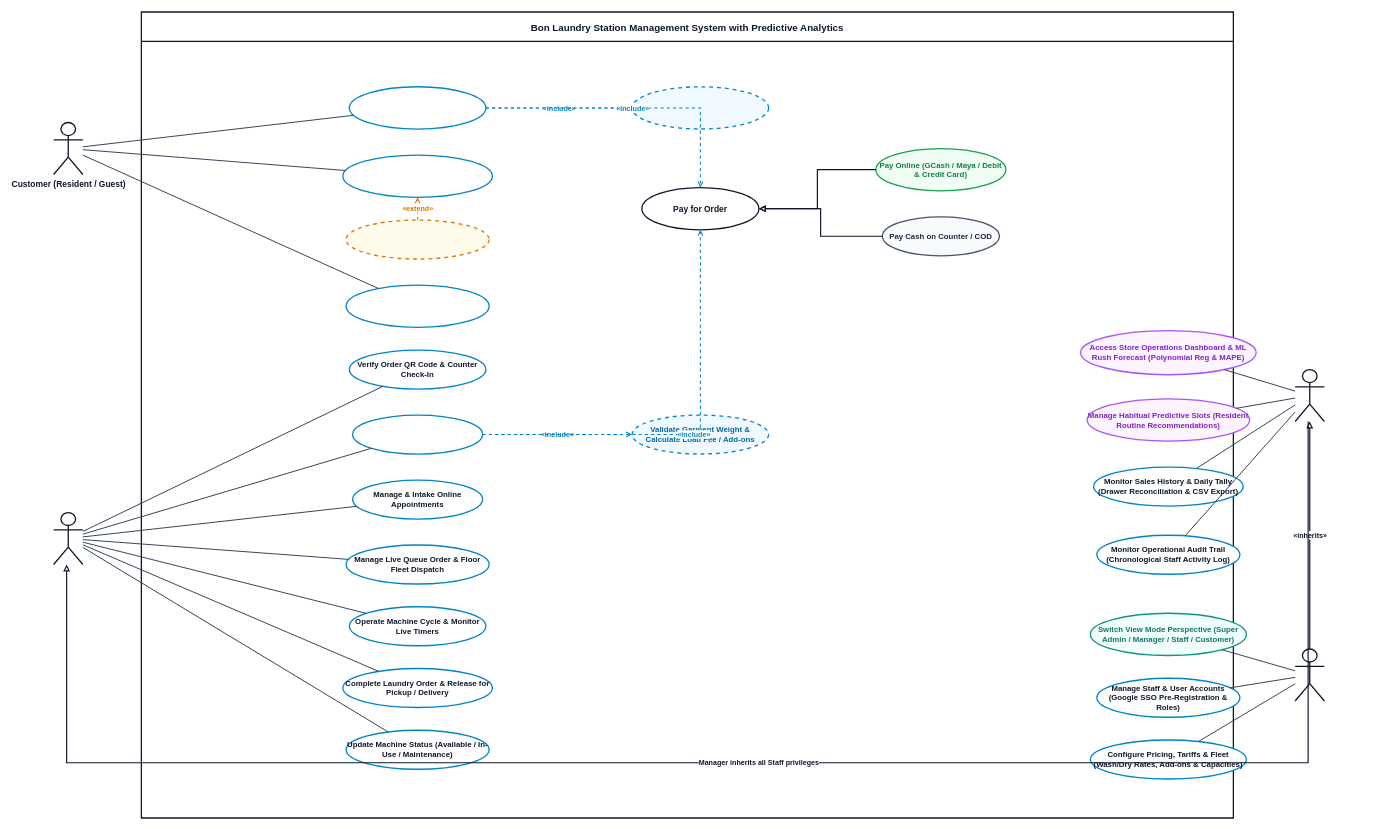
The diagram is 1385 pixels wide and 829 high, and some of its shapes have lost their labels. The box of each missing label's shape, as (x1, y1, x2, y2) in pixels:
Book Laundry Service / Online Appointment: (348, 86, 486, 129)
Calculate Service Price & Queue EWT Slot: (631, 86, 769, 129)
Manager (Store Supervisor): (1294, 369, 1325, 422)
Process Walk-in POS Job Order: (352, 414, 483, 454)
Request Order Cancellation (Self-Service Prior to Machine Cycle): (345, 219, 489, 259)
Staff (Cashier & Floor): (53, 512, 83, 565)
Super Admin (Business Owner): (1294, 648, 1325, 701)
Track Live Order & Queue (4-Step Progress Tracker & Milestones): (342, 154, 493, 198)
View Machine Fleet Lobby & Traffic Rush Indicator: (345, 284, 489, 328)
